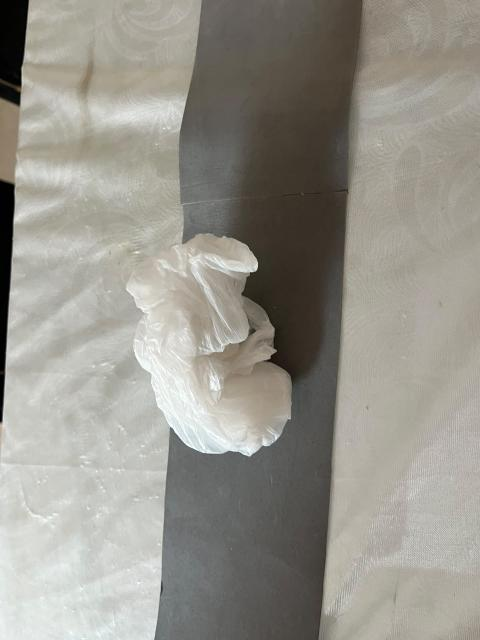LDPE: (43, 162, 383, 551)
